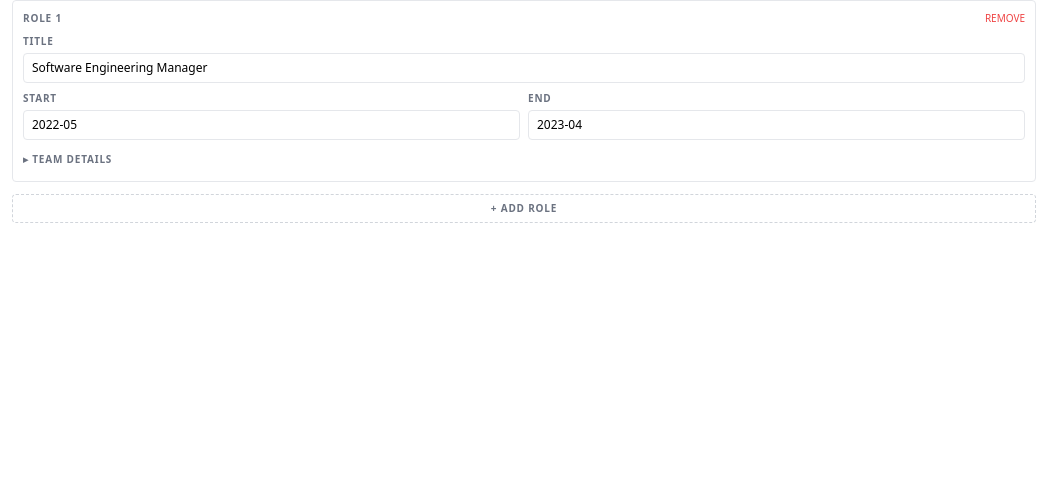
RolesSection › team details › clicking toggle reveals team fields
Click the button with test id "team-toggle-0" at (68, 159), box [23,148,1025,171]
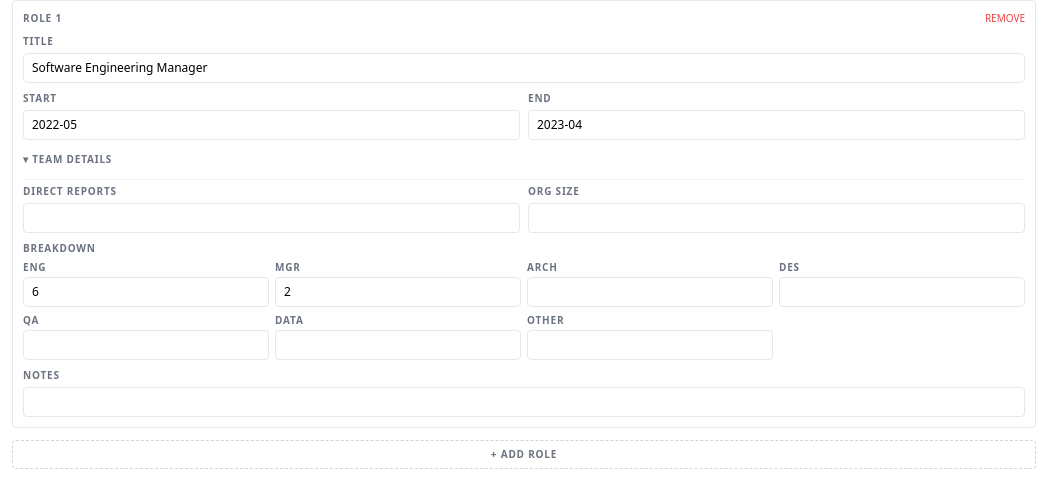
Now the number field with test id "team-direct-reports-0" is shown, box [23,203,520,233]
Now the field with test id "team-notes-0" is shown, box [23,387,1025,417]
Now the number field with test id "team-breakdown-engineers-0" is shown, box [23,277,269,307]
